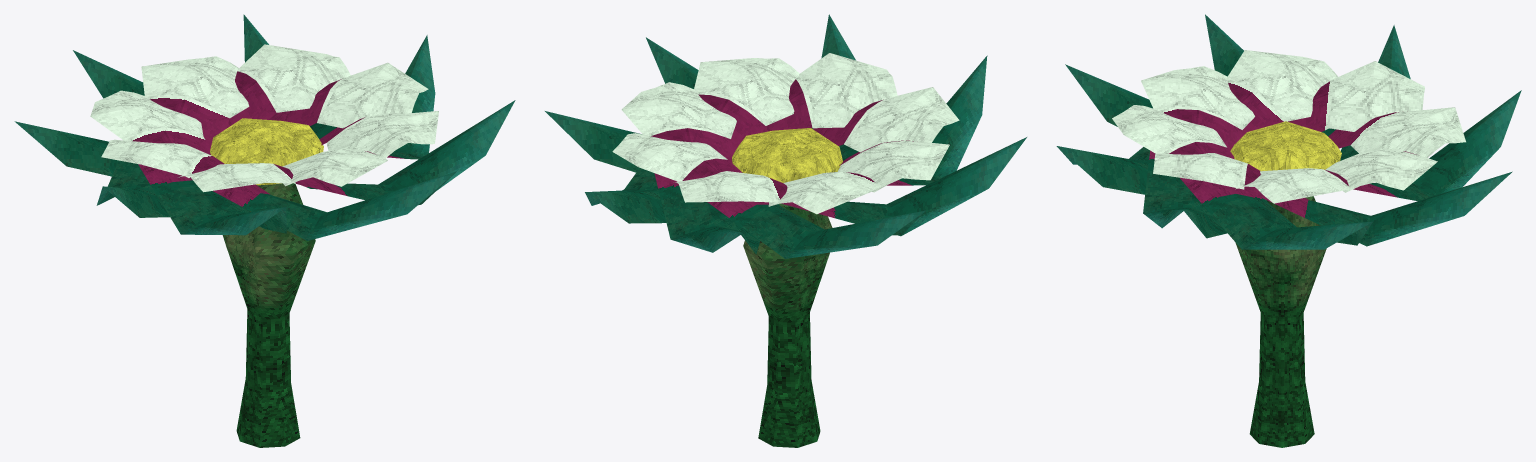
File: flwr_05.glb
The picture shows the model from 3 angles, left to right: view 1: azimuth 30°, elevation 25°; view 2: azimuth 150°, elevation 25°; view 3: azimuth 270°, elevation 25°; orthographic projection. The views are drawn at different scales.
Visible parts, largest first — view 1: FLWR_05-no-col; view 2: FLWR_05-no-col; view 3: FLWR_05-no-col.
Boxes of the visible parts, box(x1,y1,x2,y2) form: FLWR_05-no-col: box(14, 14, 515, 447); FLWR_05-no-col: box(545, 14, 1026, 447); FLWR_05-no-col: box(1056, 14, 1521, 447).
Bounding box in the file's own units: 2.78 × 2.15 × 2.78.
Materials: 1 (1 with a texture image).
